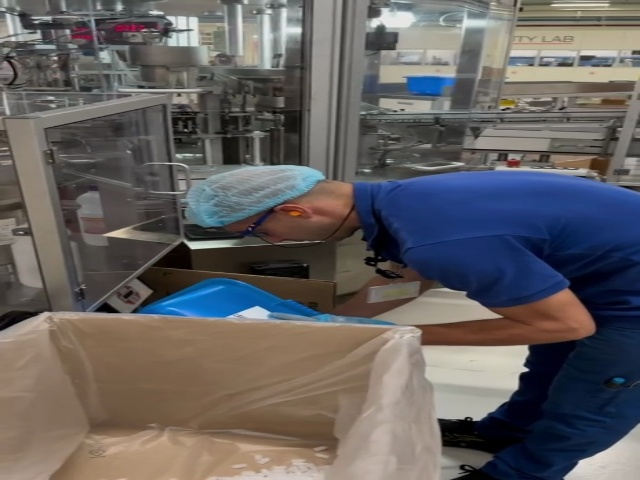Earplug: (273, 202, 318, 222)
Hairnet: (185, 163, 311, 228)
No_Helmet: (186, 164, 323, 224)
No_Vest: (352, 175, 640, 283)
Person: (186, 162, 640, 480)
Safety_Goggles: (233, 195, 284, 240)
